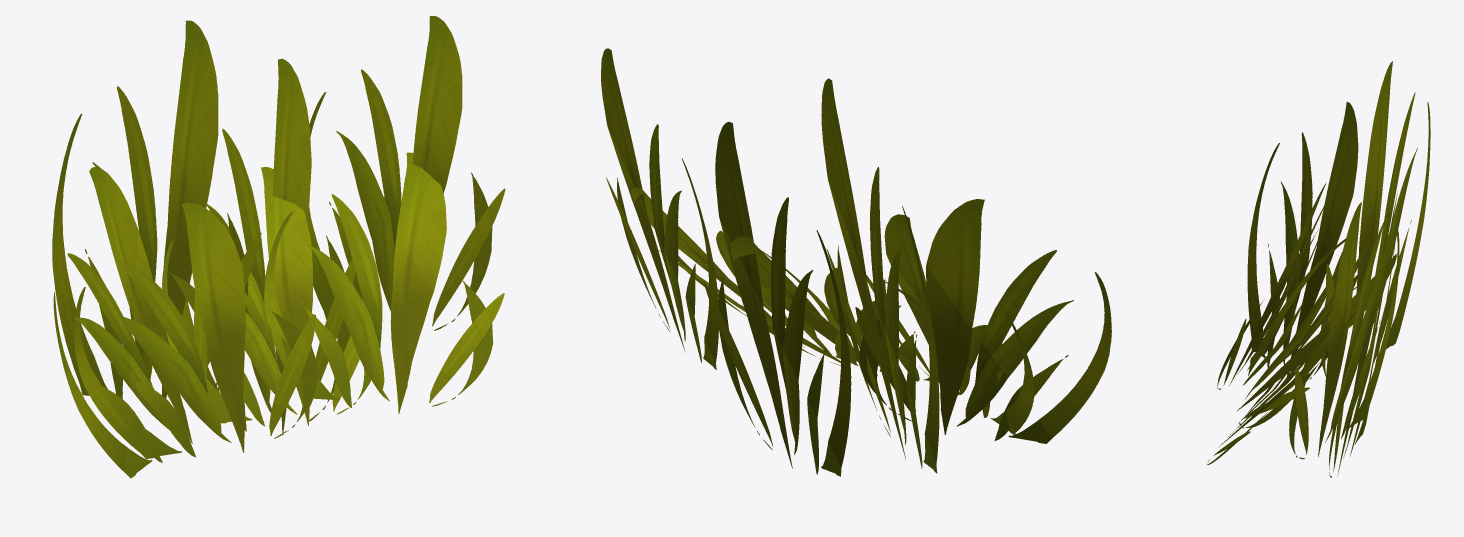
Rendered from CT_cao_03.FBX.
3 renders of one model, left to right at view 1: azimuth 30°, elevation 25°; view 2: azimuth 150°, elevation 25°; view 3: azimuth 270°, elevation 25°, orthographic. The views are drawn at different scales.
Parts seen in each view (by area): view 1: 对象003; view 2: 对象003; view 3: 对象003.
Part boxes in pixels (x1,y1,x2,y2): 对象003: (52,16,505,478); 对象003: (601,48,1111,476); 对象003: (1207,61,1430,477).
Bounding box in the file's own units: 200 × 152 × 94.78.
